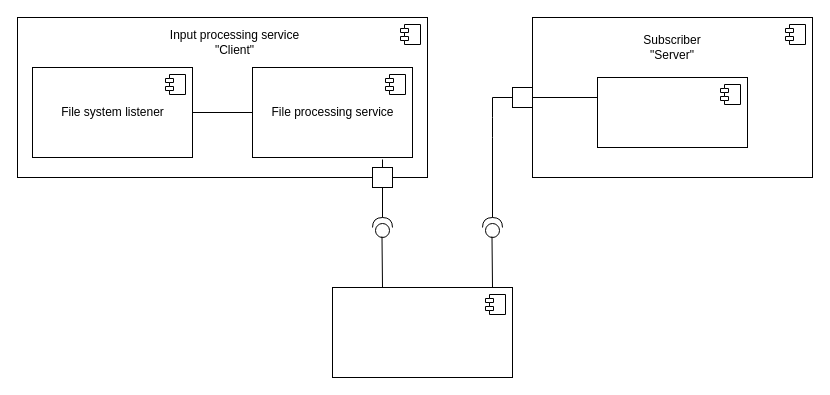
The diagram is 830 pixels wide and 395 high, and some of its shapes have lost their labels. The shapes that lost their labels are listed below. From the top down, each one's centre as x and y in pixels, then its label:
At [672,112]: "Message queue service".
At [422,332]: "Message queue RabbitMQ".
